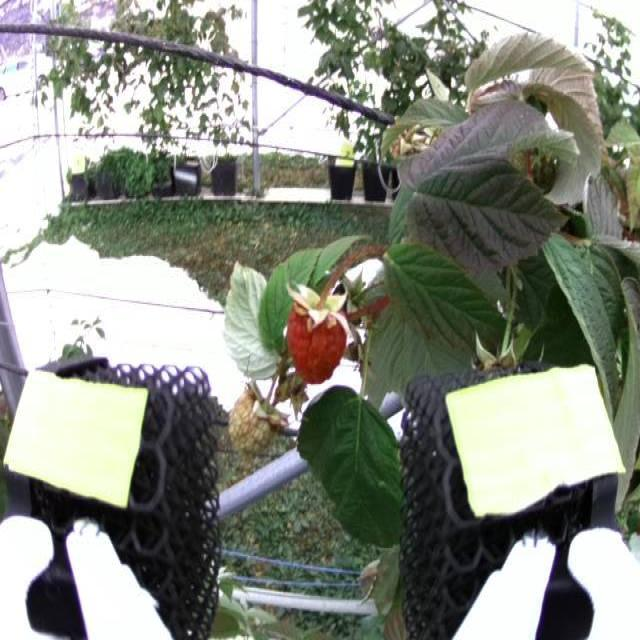Riped berries: (284, 284, 348, 380)
